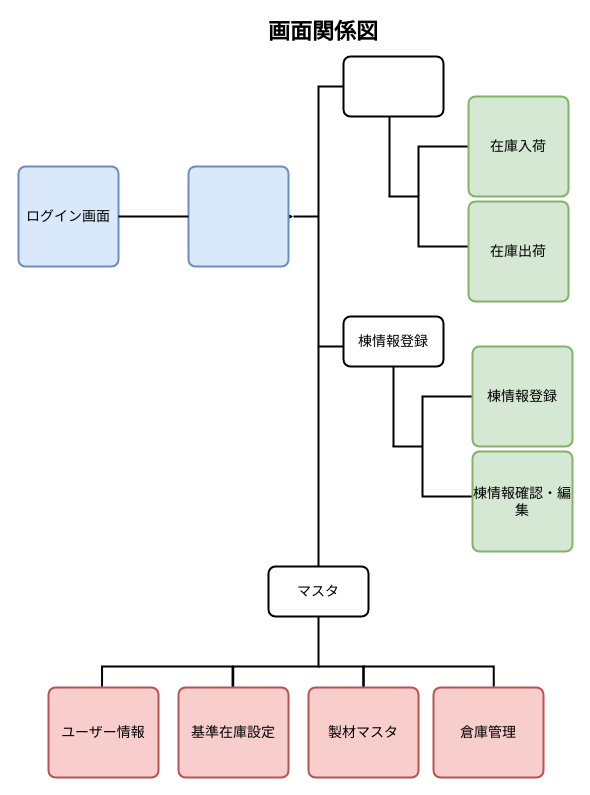
Image size: 590x795. Some labels were removed from this diagram. Here are the shapes that lost their labels. From the top down, the box of each, then its label:
(342, 55, 444, 117): 在庫登録
(187, 165, 289, 267): 在庫TOP
